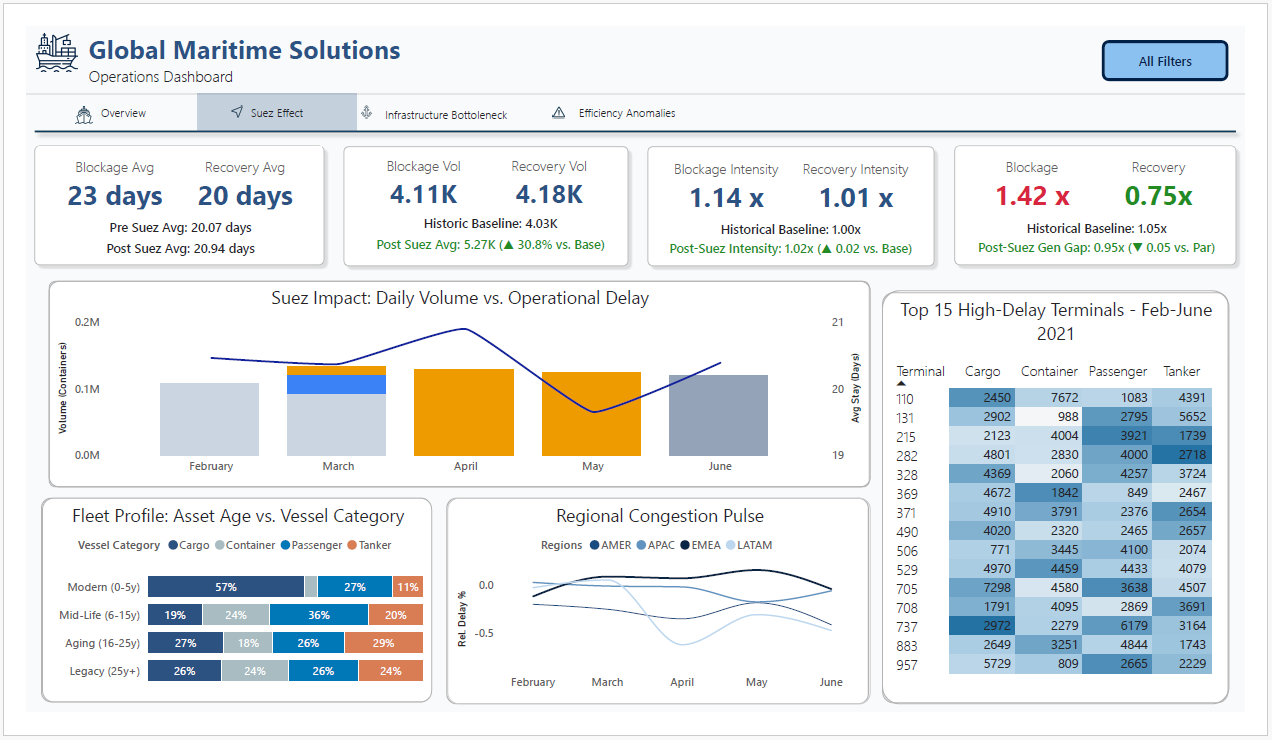

The page's visual inventory and layout, read from the dashboard file:
{"tool":"powerbi","page":{"name":"Suez Effect","canvas":[1280,720],"ordinal":1},"visuals":[{"type":"actionButton","box":[27.3,70,148.8,40],"z":0,"group":"g5"},{"type":"actionButton","box":[178.5,70,167.5,40],"z":0,"group":"g6"},{"type":"actionButton","box":[347.3,70,187.5,42.5],"z":0,"group":"g7"},{"type":"actionButton","box":[537.3,70,187.5,38.8],"z":0,"group":"g8"},{"type":"shape","box":[2,118.6,317,138],"z":0,"group":"g13"},{"type":"shape","box":[968.7,119.4,309,138],"z":0,"group":"g12"},{"type":"shape","box":[646.4,119.6,314,138],"z":0,"group":"g11"},{"type":"shape","box":[326.7,120.5,312,138],"z":0,"group":"g10"},{"type":"cardVisual","fields":{"Data":["fact_cargo_movements.blockage_avg","fact_cargo_movements.recover_avg"]},"box":[11.8,126.1,298,78],"z":0,"group":"g1"},{"type":"cardVisual","fields":{"Data":["fact_cargo_movements.blockage_vol","fact_cargo_movements.recovery_vol"]},"box":[339,128.6,288.4,71.8],"z":0,"group":"g2"},{"type":"cardVisual","fields":{"Data":["fact_cargo_movements.blockage_sensitivity_ratio","fact_cargo_movements.recovery_sensitivity_ratio"]},"box":[977.9,130,291,70],"z":0,"group":"g3"},{"type":"cardVisual","fields":{"Data":["fact_cargo_movements.blockage_stess","fact_cargo_movements.recovery_stress"]},"box":[655.5,131.6,296.2,70],"z":0,"group":"g4"},{"type":"shape","title":"shape - suez impact","box":[22.9,266.8,863.8,217],"z":0,"group":"g9"},{"type":"shape","box":[440.7,494.6,444.7,217],"z":0},{"type":"image","box":[51,82.1,18.7,20.8],"z":1000,"group":"g5"},{"type":"group","id":"g1","title":"Group 2","box":[11.8,126.1,298,121.5],"z":1000,"group":"g13"},{"type":"group","id":"g2","title":"Group 2","box":[339,128.6,288.7,116.5],"z":1000,"group":"g10"},{"type":"group","id":"g3","title":"Group 2","box":[977.9,130,291,115],"z":1000,"group":"g12"},{"type":"group","id":"g4","title":"Group 2","box":[655.5,131.6,296.2,114.3],"z":1000,"group":"g11"},{"type":"cardVisual","fields":{"Data":["fact_cargo_movements.pre_vol_label","fact_cargo_movements.Suez_Post_Status_FULL"]},"box":[347.2,188.4,280.5,56.7],"z":1000,"group":"g2"},{"type":"cardVisual","fields":{"Data":["fact_cargo_movements.pre_label","fact_cargo_movements.post_label"]},"box":[15.5,192.6,291.7,55],"z":1000,"group":"g1"},{"type":"cardVisual","fields":{"Data":["fact_cargo_movements.pre_ops_baseline_display","fact_cargo_movements.post_ops_full"]},"box":[983.6,195,281.4,50],"z":1000,"group":"g3"},{"type":"cardVisual","fields":{"Data":["fact_cargo_movements.pre_stress_baseline_display","fact_cargo_movements.post_stress_full"]},"box":[658.5,195.9,290.2,50],"z":1000,"group":"g4"},{"type":"lineStackedColumnComboChart","title":"Suez Impact: Daily Volume vs. Operational Delay","fields":{"Category":["dim_time.date_id.Variation.Date Hierarchy.Month","dim_time.date_id.Variation.Date Hierarchy.Day"],"Y2":["fact_cargo_movements.M2.Avg Move Duration"],"Series":["Suez_Sort_Map.Suez_Period"],"Y":["fact_cargo_movements.total_containers"]},"box":[22.9,266.8,863.3,217],"z":1000,"group":"g9"},{"type":"shape","box":[14.8,494.6,409.7,215.6],"z":1000},{"type":"shape","box":[0,1.2,1280,139.9],"z":2000},{"type":"textbox","box":[60,0,431.2,70],"z":3000},{"type":"image","box":[6.2,6.2,50,42.5],"z":4000},{"type":"actionButton","box":[1130,14.3,132.9,42.9],"z":5000},{"type":"shape","box":[0,86.2,1280,48],"z":6000},{"type":"group","id":"g5","title":"Group 1","box":[27.3,70,148.8,40],"z":7000},{"type":"group","id":"g6","title":"Group 1","box":[178.5,70,167.5,40],"z":8000},{"type":"group","id":"g7","title":"Group 1","box":[347.3,70,187.5,42.5],"z":9000},{"type":"image","box":[211.5,83,17,12],"z":10000},{"type":"image","box":[351,82.5,12.5,13.8],"z":11000},{"type":"group","id":"g8","title":"Group 1","box":[537.3,70,187.5,38.8],"z":12000},{"type":"image","box":[548.5,83.8,20,12.5],"z":13000},{"type":"shape","box":[898.6,277.1,365,435],"z":14000},{"type":"group","id":"g9","title":"Group 6","box":[22.9,266.8,863.8,217],"z":15000},{"type":"hundredPercentStackedBarChart","title":"Fleet Profile: Asset Age vs. Vessel Category","fields":{"Category":["Generation_Map.GenerationName"],"Series":["dim_vessel.vessel_category"],"Y":["fact_cargo_movements.Total_Container_Dynamic"]},"box":[16.2,494.6,409.7,215.6],"z":16000},{"type":"pivotTable","fields":{"Rows":["dim_terminal.terminal_id"],"Values":["fact_cargo_movements.Total_Container_Dynamic"],"Columns":["dim_vessel.vessel_category"]},"box":[898.6,278.6,364.3,432.9],"z":17000},{"type":"lineChart","title":"Regional Congestion Pulse","fields":{"Y":["fact_cargo_movements.Regional_Pulse_Smoothed"],"Series":["dim_terminal.regional_hub"],"Category":["dim_time.date_id.Variation.Date Hierarchy.Month","dim_time.date_id.Variation.Date Hierarchy.Day"]},"box":[441.6,494.6,445.2,217.2],"z":18000},{"type":"group","id":"g10","title":"Group 3","box":[326.7,120.5,312,138],"z":19000},{"type":"group","id":"g11","title":"Group 3","box":[646.4,119.6,314,138],"z":20000},{"type":"group","id":"g12","title":"Group 3","box":[968.7,119.4,309,138],"z":21000},{"type":"group","id":"g13","title":"Group 3","box":[2,118.6,317,138],"z":22000}]}

Visuals, with their boxes on the page's 1280x720 design canvas (x1, y1, x2, y2). These are canvas units, not pixel positions in the 1272x740 screenshot, which may show the page scaled, cropped or inside an application window:
actionButton: [27,70,176,110]
actionButton: [178,70,346,110]
actionButton: [347,70,535,112]
actionButton: [537,70,725,109]
shape: [2,119,319,257]
shape: [969,119,1278,257]
shape: [646,120,960,258]
shape: [327,120,639,258]
cardVisual - fact_cargo_movements.blockage_avg x fact_cargo_movements.recover_avg: [12,126,310,204]
cardVisual - fact_cargo_movements.blockage_vol x fact_cargo_movements.recovery_vol: [339,129,627,200]
cardVisual - fact_cargo_movements.blockage_sensitivity_ratio x fact_cargo_movements.recovery_sensitivity_ratio: [978,130,1269,200]
cardVisual - fact_cargo_movements.blockage_stess x fact_cargo_movements.recovery_stress: [656,132,952,202]
"shape - suez impact" shape: [23,267,887,484]
shape: [441,495,885,712]
image: [51,82,70,103]
"Group 2" group: [12,126,310,248]
"Group 2" group: [339,129,628,245]
"Group 2" group: [978,130,1269,245]
"Group 2" group: [656,132,952,246]
cardVisual - fact_cargo_movements.pre_vol_label x fact_cargo_movements.Suez_Post_Status_FULL: [347,188,628,245]
cardVisual - fact_cargo_movements.pre_label x fact_cargo_movements.post_label: [16,193,307,248]
cardVisual - fact_cargo_movements.pre_ops_baseline_display x fact_cargo_movements.post_ops_full: [984,195,1265,245]
cardVisual - fact_cargo_movements.pre_stress_baseline_display x fact_cargo_movements.post_stress_full: [658,196,949,246]
"Suez Impact: Daily Volume vs. Operational Delay" lineStackedColumnComboChart: [23,267,886,484]
shape: [15,495,424,710]
shape: [0,1,1280,141]
textbox: [60,0,491,70]
image: [6,6,56,49]
actionButton: [1130,14,1263,57]
shape: [0,86,1280,134]
"Group 1" group: [27,70,176,110]
"Group 1" group: [178,70,346,110]
"Group 1" group: [347,70,535,112]
image: [212,83,228,95]
image: [351,82,364,96]
"Group 1" group: [537,70,725,109]
image: [548,84,568,96]
shape: [899,277,1264,712]
"Group 6" group: [23,267,887,484]
"Fleet Profile: Asset Age vs. Vessel Category" hundredPercentStackedBarChart: [16,495,426,710]
pivotTable - dim_terminal.terminal_id x fact_cargo_movements.Total_Container_Dynamic: [899,279,1263,712]
"Regional Congestion Pulse" lineChart: [442,495,887,712]
"Group 3" group: [327,120,639,258]
"Group 3" group: [646,120,960,258]
"Group 3" group: [969,119,1278,257]
"Group 3" group: [2,119,319,257]
